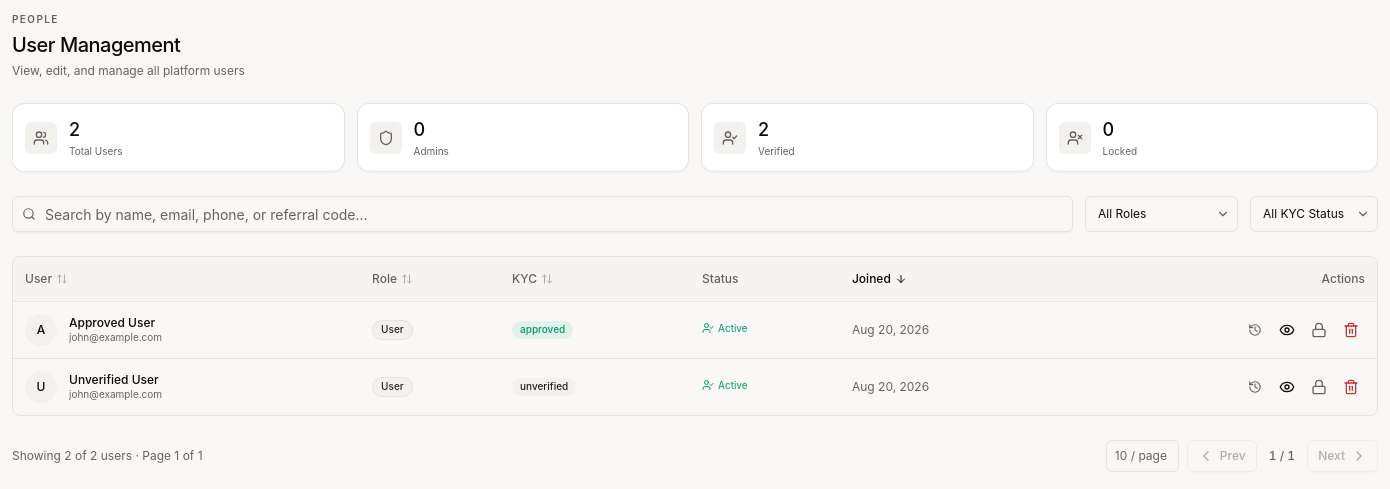
AdminUsers Page › KYC Filter › filters by KYC status
The width and height of the screenshot is (1390, 489).
Select "Approved" in the 2nd dropdown showing "All KYC Status" at x=1314, y=214, box [1250,196,1378,232]
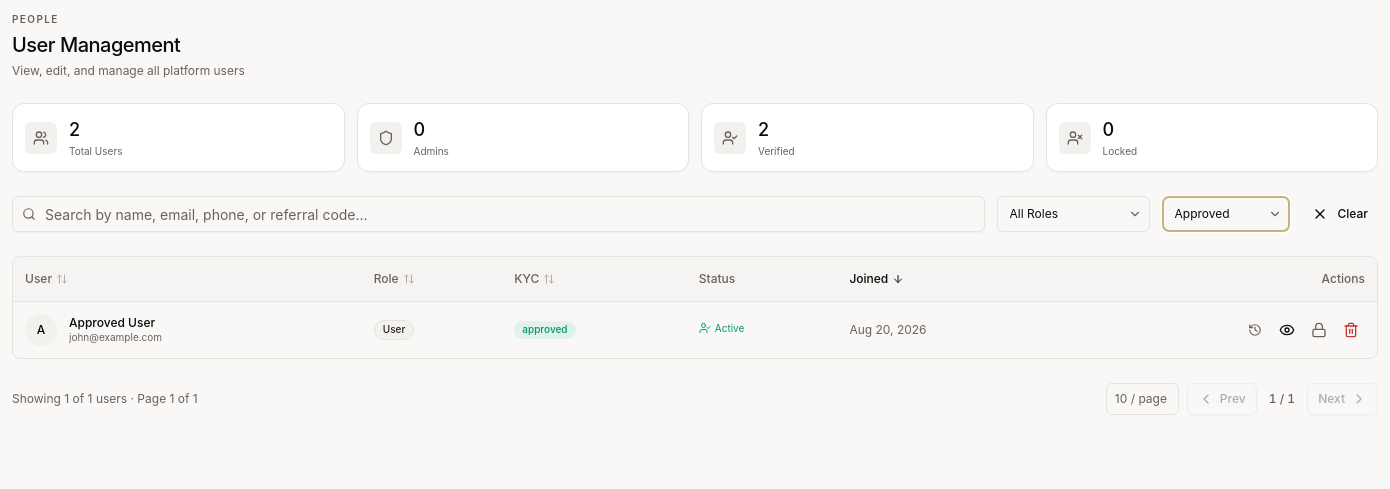
Expected: the text "Approved User" is shown, [69,315,162,331]
Result: the text "Unverified User" is gone
